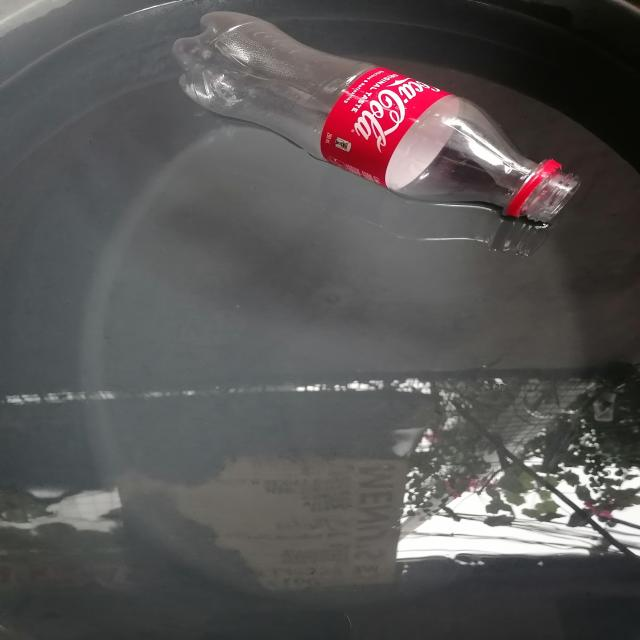Plastic Bottle: (173, 12, 580, 224)
